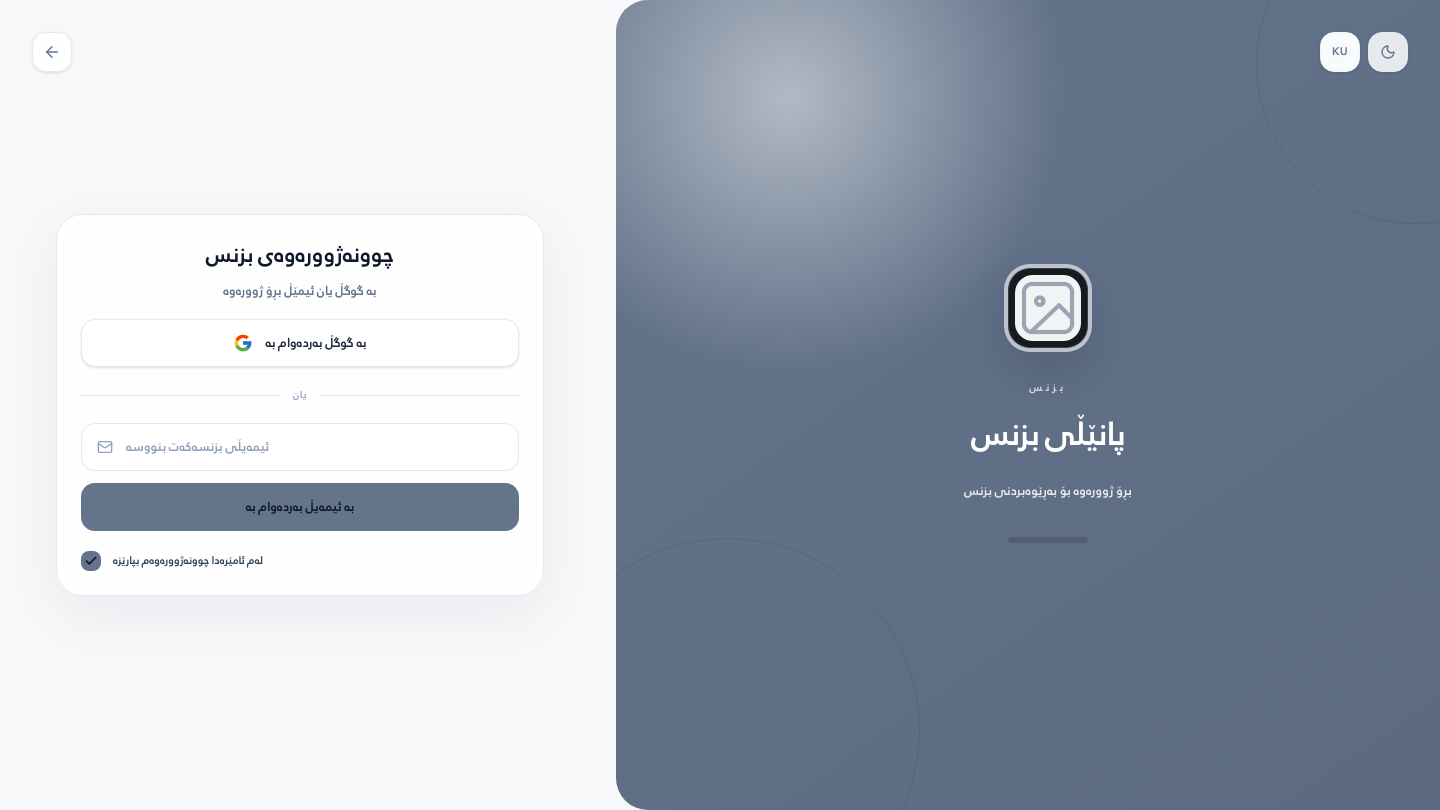
Test case: BusinessWorkspaceEntryPage › requests a one-time code for the entered business email
Type "owner@example.com" into the field named "ناونیشانی ئیمەیڵ". click: (300, 447)
box: [81, 423, 519, 471]
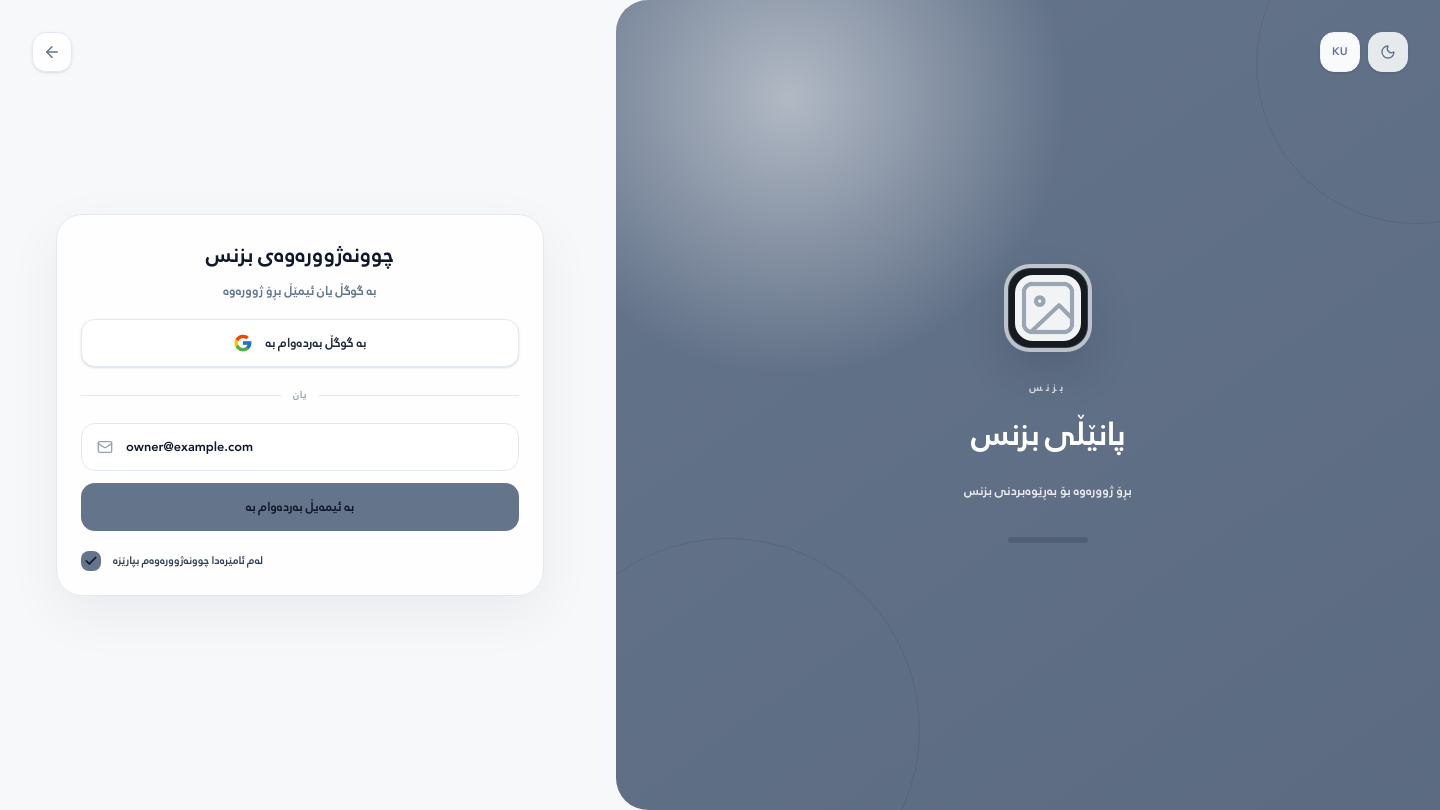
Click the button "بە ئیمەیڵ بەردەوام بە". click: (300, 507)
box: [81, 483, 519, 531]
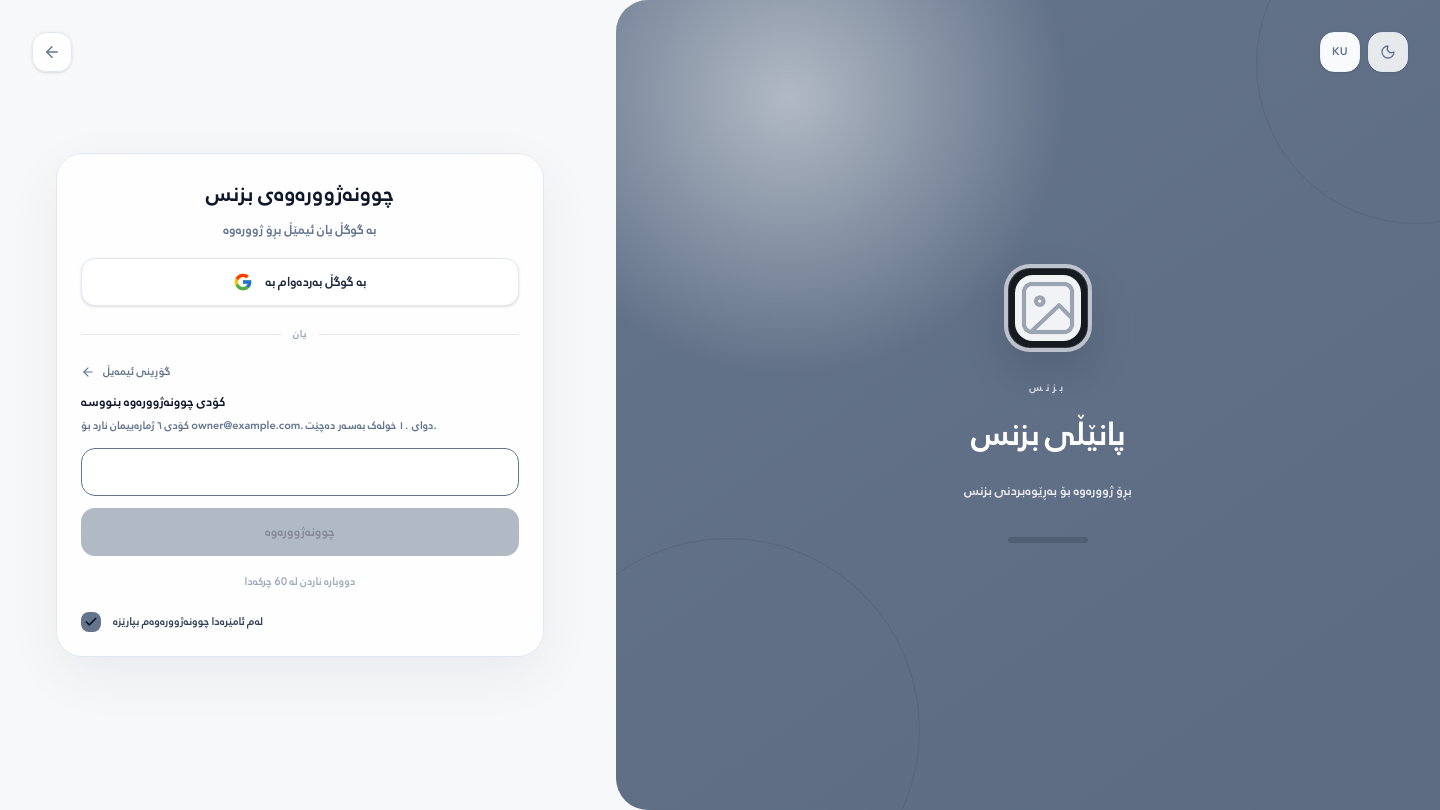
Check: the field named "کۆدی چوونەژوورەوە" is shown, box [81, 448, 519, 496]
